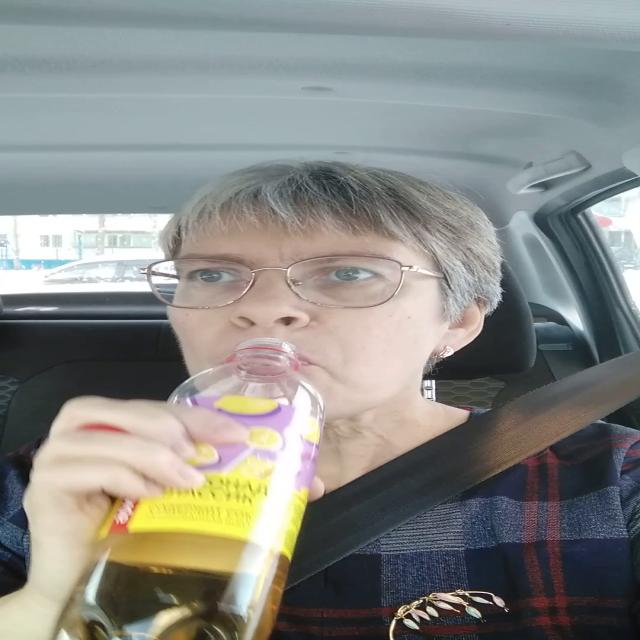3: (298, 346, 640, 573)
Seatbelt: (85, 334, 318, 640)
